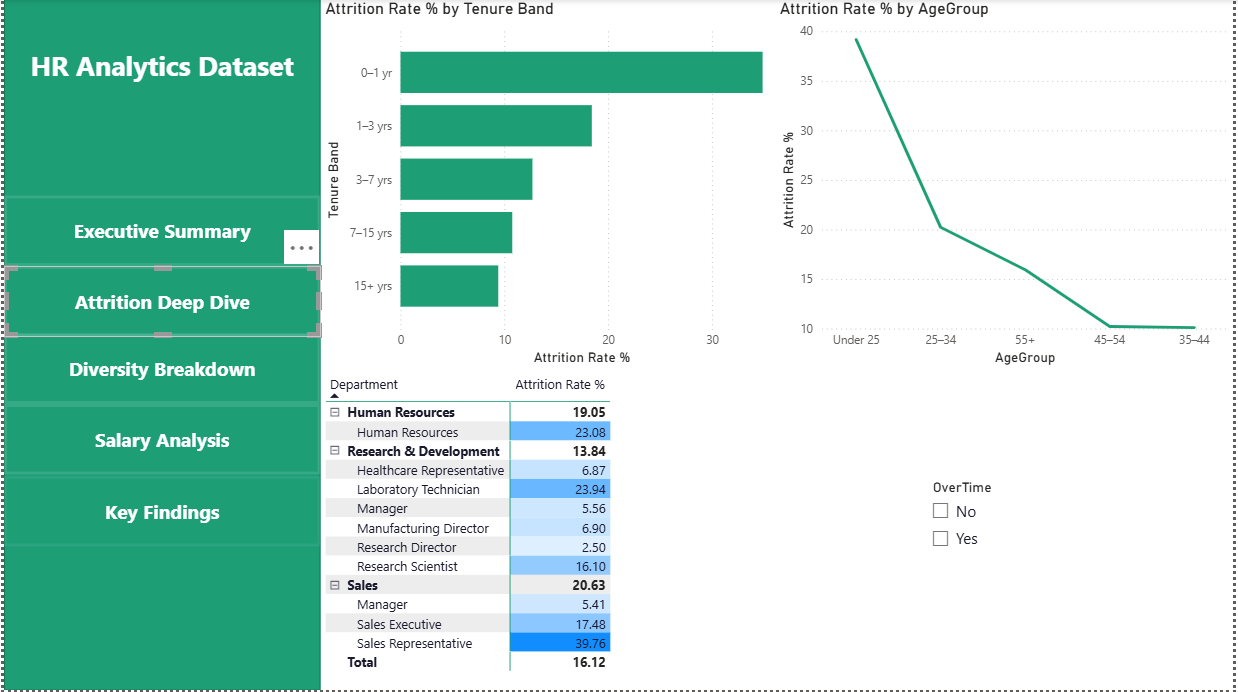

This screenshot's page, from the dashboard's own definition file:
{"tool":"powerbi","page":{"name":"Attrition Deep Dive","canvas":[1280,720],"ordinal":1},"visuals":[{"type":"barChart","fields":{"Category":["Employee_JobInfo.Tenure Band"],"Y":["_Measures (2).Attrition Rate %"]},"box":[329.8,0,473.6,386.1],"z":0},{"type":"lineChart","fields":{"Category":["Employee_Demographics.AgeGroup"],"Y":["_Measures (2).Attrition Rate %"]},"box":[803.4,0,476.7,386.1],"z":1000},{"type":"pivotTable","fields":{"Values":["_Measures (2).Attrition Rate %"],"Rows":["Employee_JobInfo.Department","Employee_JobInfo.JobRole"]},"box":[329.8,386.1,497,334.5],"z":2000},{"type":"slicer","fields":{"Values":["Employee_JobInfo.OverTime"]},"box":[955,495.5,253.2,114.1],"z":3000},{"type":"shape","box":[0,0,329.8,720.5],"z":4000},{"type":"actionButton","box":[0,204.8,329.8,73.5],"z":5000},{"type":"actionButton","box":[0,278.2,329.8,73.5],"z":6000},{"type":"actionButton","box":[0,348.5,329.8,73.5],"z":7000},{"type":"actionButton","box":[0,422,329.8,73.5],"z":8000},{"type":"actionButton","box":[0,0,329.8,137.5],"z":9000},{"type":"actionButton","box":[0,497,329.8,73.5],"z":10000}]}

Visuals, with their boxes in screenshot pixels (x1, y1, x2, y2), scaled from the page's 1280x720 canvas onto the 1238x692 screenshot:
barChart - Employee_JobInfo.Tenure Band x _Measures (2).Attrition Rate %: crop(319, 0, 777, 371)
lineChart - Employee_Demographics.AgeGroup x _Measures (2).Attrition Rate %: crop(777, 0, 1237, 371)
pivotTable - _Measures (2).Attrition Rate % x Employee_JobInfo.Department: crop(319, 371, 800, 691)
slicer - Employee_JobInfo.OverTime: crop(924, 476, 1169, 586)
shape: crop(0, 0, 319, 691)
actionButton: crop(0, 197, 319, 267)
actionButton: crop(0, 267, 319, 338)
actionButton: crop(0, 335, 319, 406)
actionButton: crop(0, 406, 319, 476)
actionButton: crop(0, 0, 319, 132)
actionButton: crop(0, 478, 319, 548)
